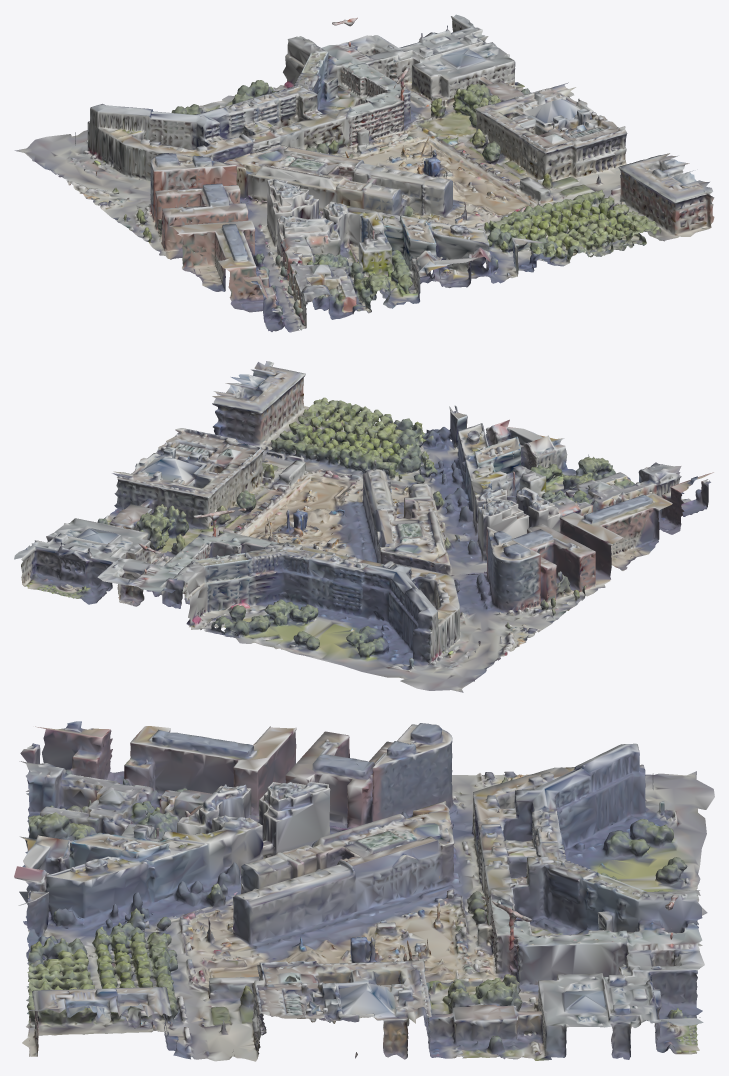
Rendered from surface-detail-3898_58185.glb.
3 views of the same model, one above another, from view 1: azimuth 30°, elevation 25°; view 2: azimuth 150°, elevation 25°; view 3: azimuth 270°, elevation 25° (orthographic). The views are drawn at different scales.
Parts seen in each view (by area): view 1: world; view 2: world; view 3: world.
Part boxes in pixels (box(x1,y1,x2,y2)): world: box(14, 14, 714, 332); world: box(14, 361, 713, 692); world: box(14, 721, 714, 1061).
Size of the model in its own units: 378 by 53.79 by 379.
